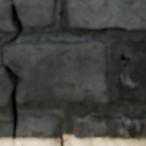brick: (72, 113, 145, 145), (67, 0, 145, 29), (119, 41, 145, 100)
broken_brick: (5, 39, 110, 105), (0, 112, 61, 145), (0, 0, 56, 32), (0, 60, 11, 107)
crack: (0, 2, 24, 143), (119, 50, 130, 67), (122, 97, 138, 102)
